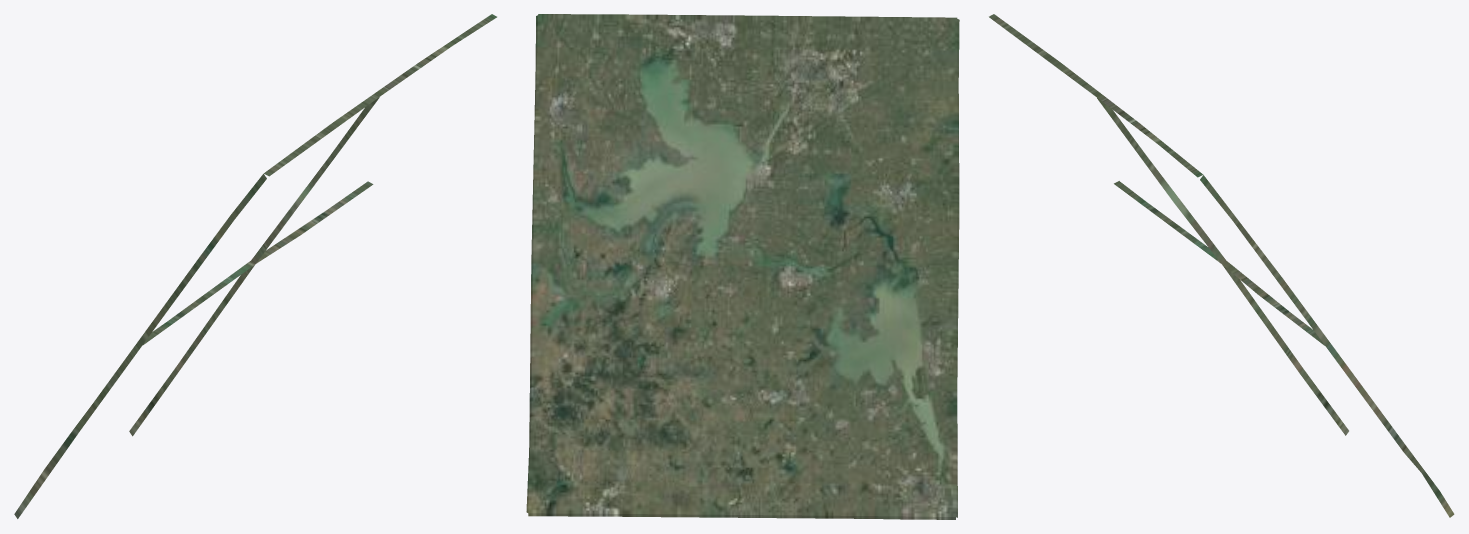
3 views of the same model, side by side, from view 1: azimuth 30°, elevation 25°; view 2: azimuth 150°, elevation 25°; view 3: azimuth 270°, elevation 25° (orthographic). The views are drawn at different scales.
Bounding box in the file's own units: 158098 × 133324 × 140195.
Materials: 1 (1 with a texture image).
